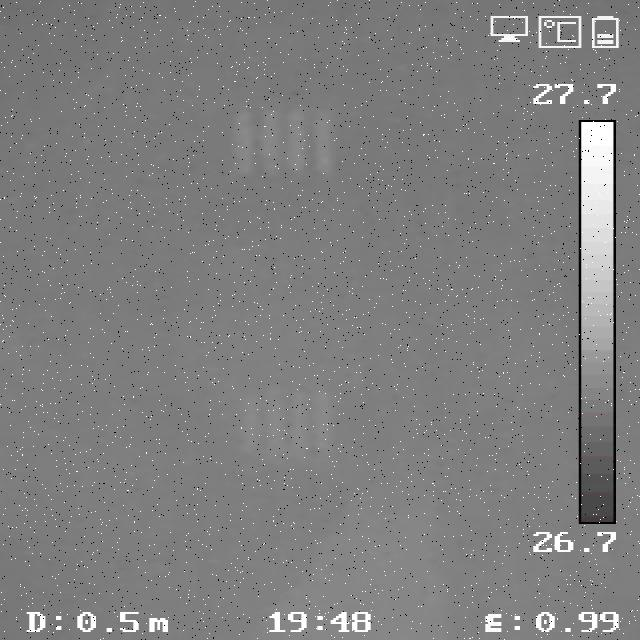threshold 4-bar target: (230, 102, 338, 174), (237, 386, 339, 457)
